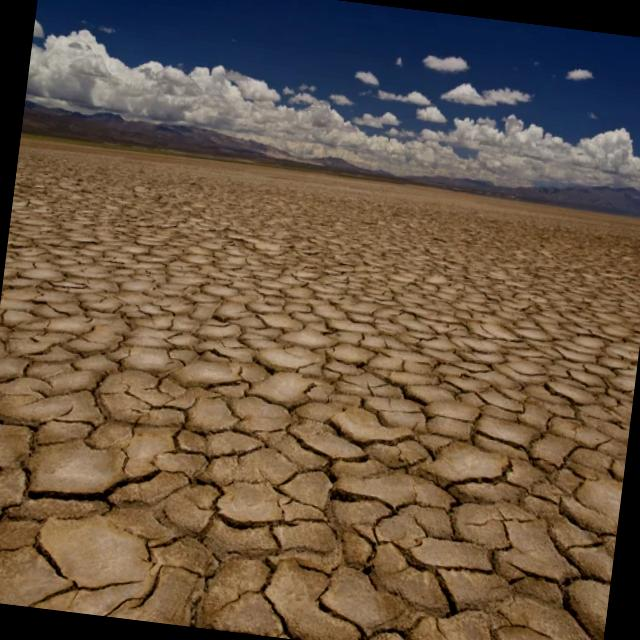suelo_seco: (116, 253, 478, 528)
